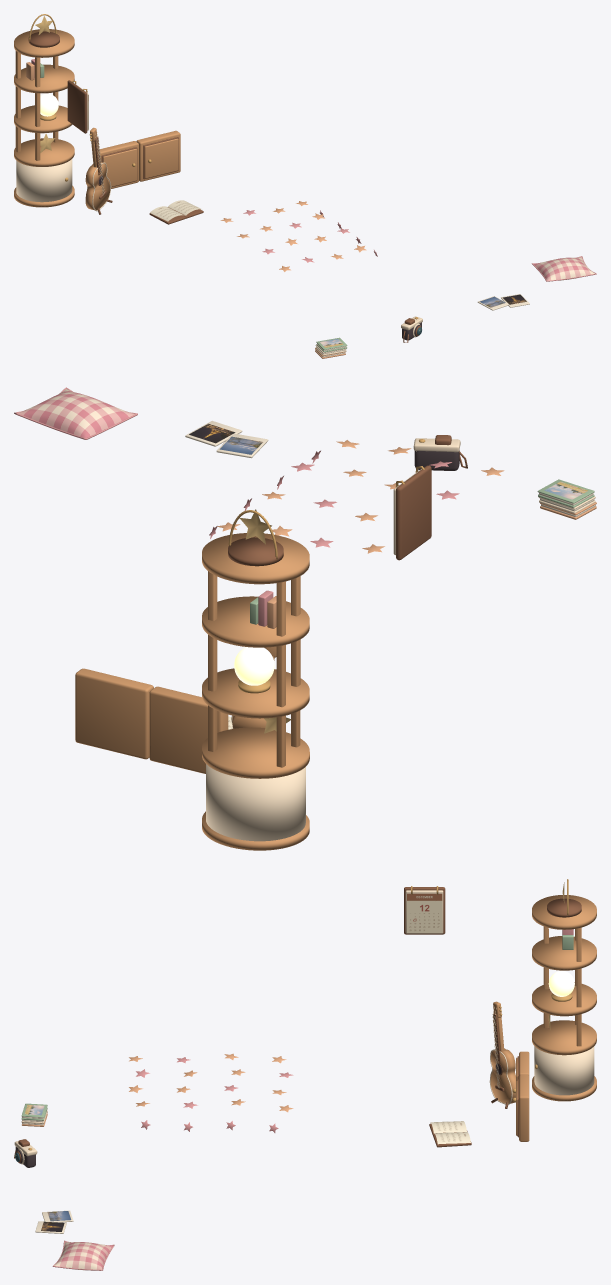
The model's file is room-edition.glb.
3 views of the same model, one above another, from view 1: azimuth 30°, elevation 25°; view 2: azimuth 150°, elevation 25°; view 3: azimuth 270°, elevation 25° (orthographic). The views are drawn at different scales.
Parts seen in each view (by area): view 1: Room.Rounded corner shelves, Room.Hutch lower panels, Room.Parlor Guitar, Room.Gingham floor cushion, Room.December Calendar, Room.Open songbook, Room.Quilt star appliques, Room.Bedside notebooks; view 2: Room.Rounded corner shelves, Room.Hutch lower panels, Room.Gingham floor cushion, Room.December Calendar, Room.Quilt star appliques, Room.Bedside notebooks, Room.Camera, Room.Meadow instant print, Room.Moon instant print; view 3: Room.Rounded corner shelves, Room.December Calendar, Room.Parlor Guitar, Room.Gingham floor cushion, Room.Hutch lower panels, Room.Quilt star appliques, Room.Open songbook, Room.Bedside notebooks.
Boxes of the visible parts, x1,y1,x2,y2 form: Room.Rounded corner shelves: (14,14,74,207); Room.Hutch lower panels: (99,130,180,188); Room.Parlor Guitar: (85,127,112,214); Room.Gingham floor cushion: (531,256,596,281); Room.December Calendar: (67,80,88,133); Room.Open songbook: (149,200,203,224); Room.Quilt star appliques: (220,201,377,271); Room.Bedside notebooks: (315,337,347,358); Room.Rounded corner shelves: (202,509,309,850); Room.Hutch lower panels: (75,668,228,773); Room.Gingham floor cushion: (14,387,137,439); Room.December Calendar: (393,465,431,560); Room.Quilt star appliques: (209,440,504,553); Room.Bedside notebooks: (537,479,596,519); Room.Camera: (413,435,467,470); Room.Meadow instant print: (216,433,268,458); Room.Moon instant print: (185,421,242,446); Room.Rounded corner shelves: (532,879,596,1101); Room.December Calendar: (404,886,445,934); Room.Parlor Guitar: (489,1001,515,1108); Room.Gingham floor cushion: (52,1240,114,1270); Room.Hutch lower panels: (512,1051,529,1141); Room.Quilt star appliques: (129,1053,293,1132); Room.Open songbook: (429,1121,471,1147); Room.Bedside notebooks: (21,1103,47,1126).
Size of the model in its own units: 6.56 by 3.14 by 7.88.
Materials: 20 (7 with a texture image).
